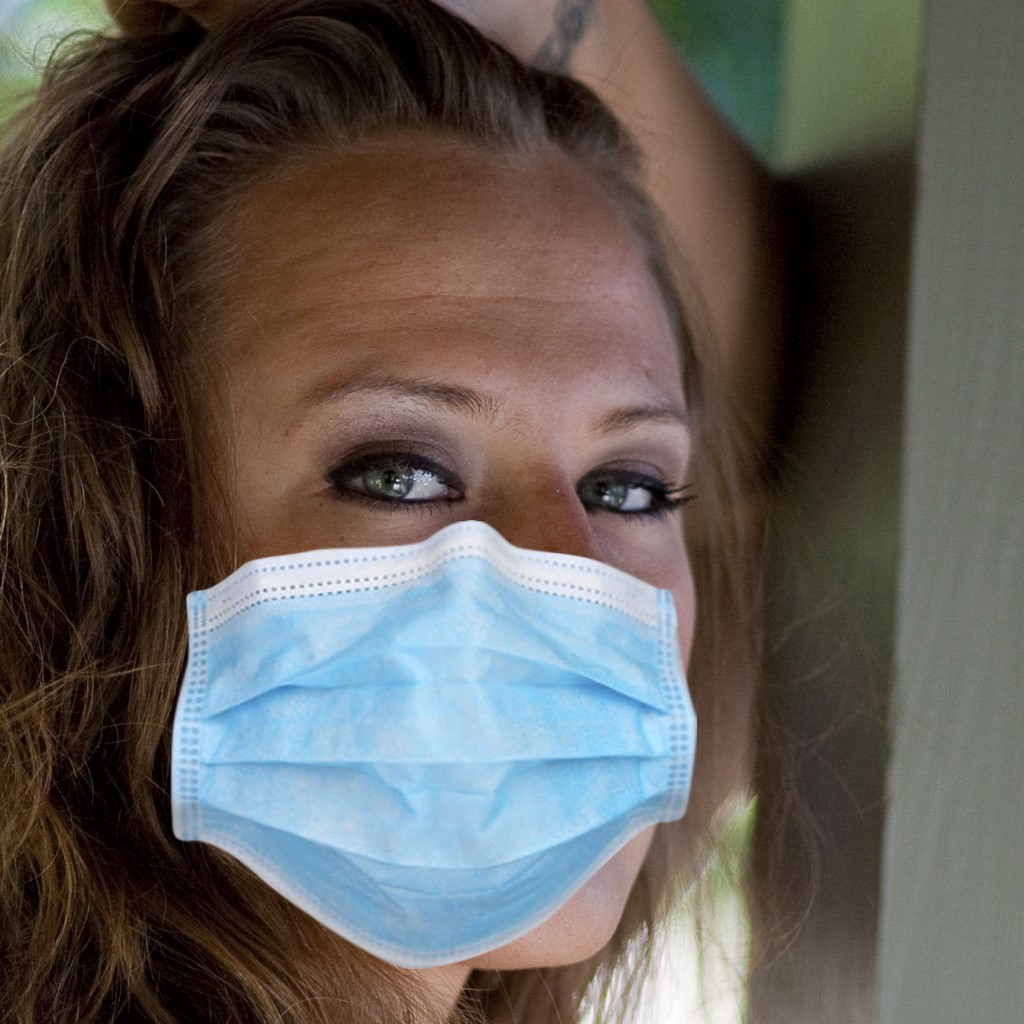con_mascara: (135, 95, 702, 986)
